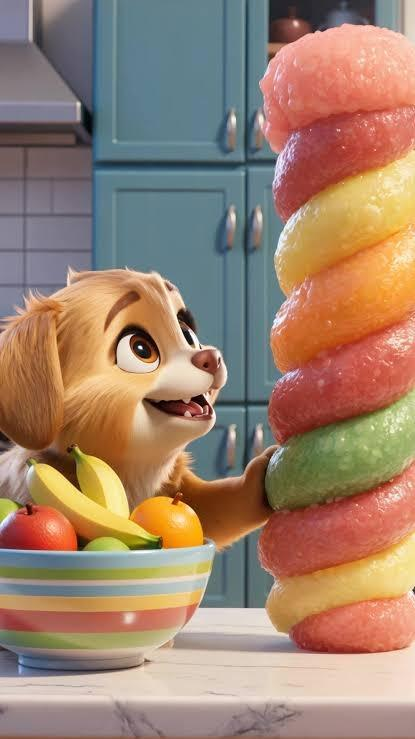puppy-dog: (0, 265, 280, 553)
